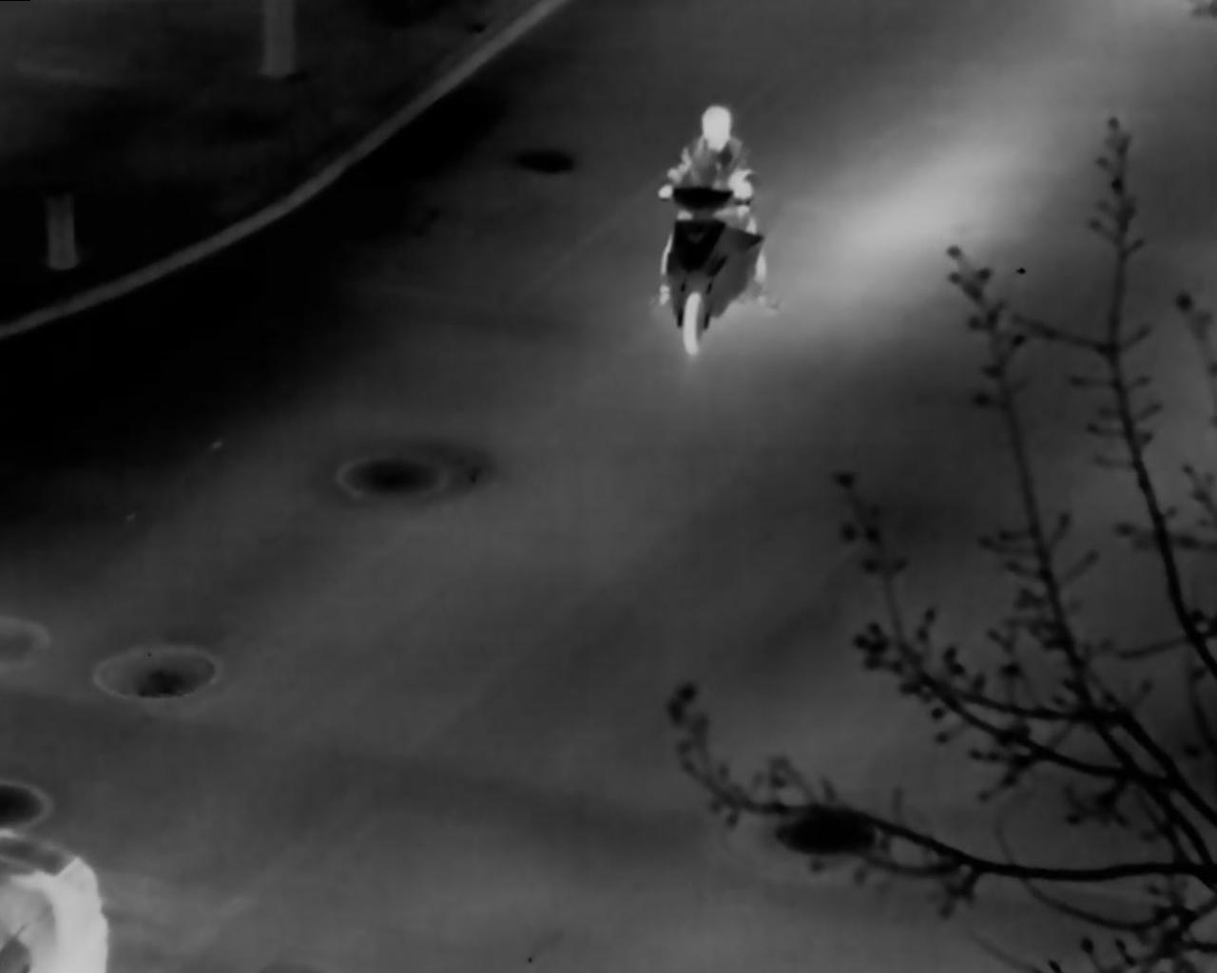person: (665, 105, 777, 310)
